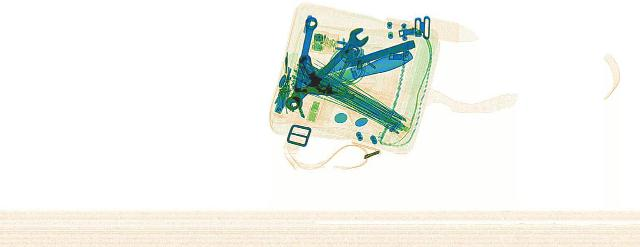Gun: (272, 85, 358, 115)
Knife: (296, 49, 426, 91), (292, 39, 422, 81)
Wrench: (275, 26, 379, 110), (286, 16, 318, 109)
